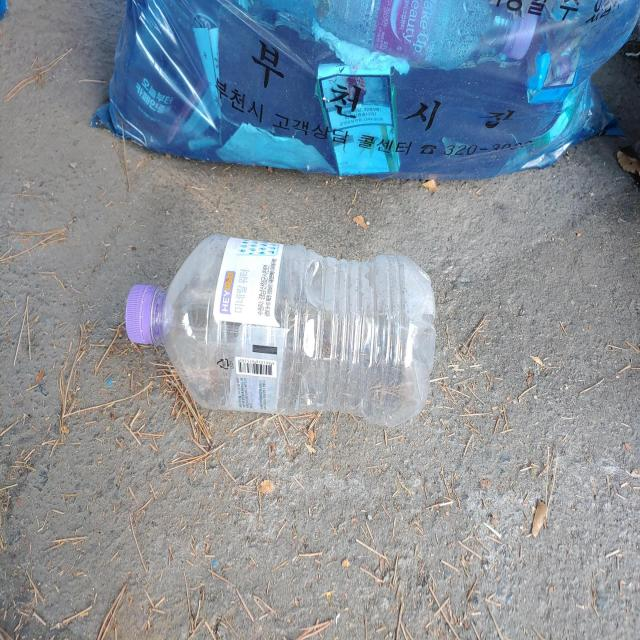plastic: (125, 235, 436, 426)
